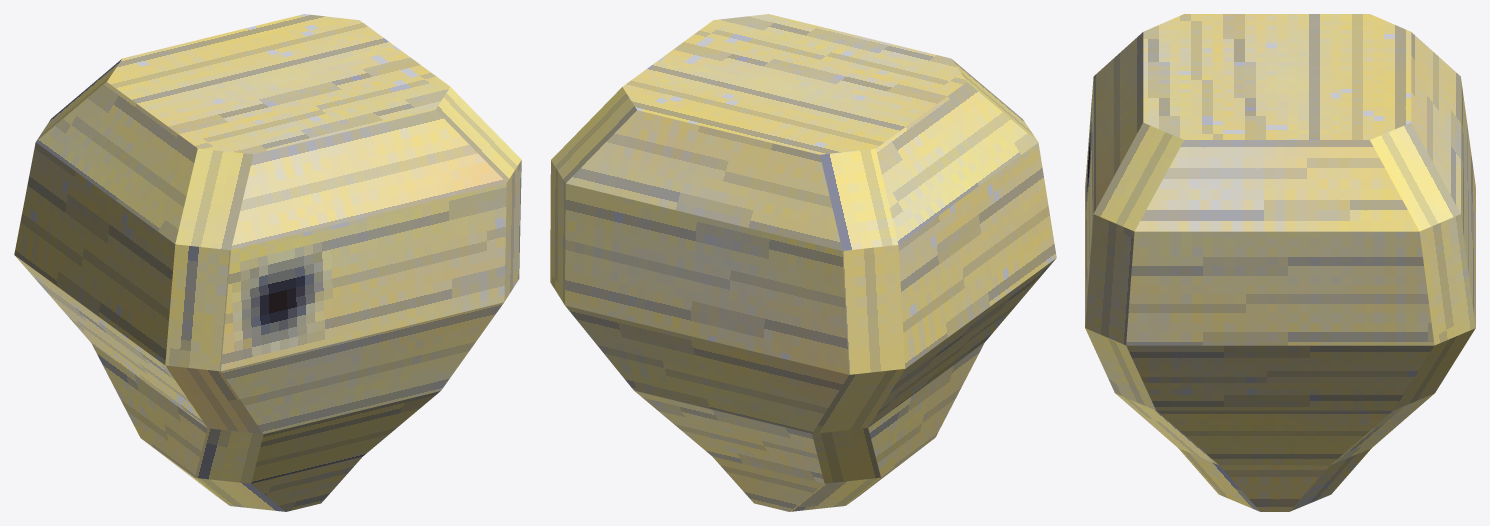
The model's file is hive.glb.
3 renders of one model, left to right at view 1: azimuth 30°, elevation 25°; view 2: azimuth 150°, elevation 25°; view 3: azimuth 270°, elevation 25°, orthographic. The views are drawn at different scales.
Parts seen in each view (by area): view 1: Cube; view 2: Cube; view 3: Cube.
Boxes of the visible parts, box(x1,y1,x2,y2) form: Cube: box(14, 14, 521, 511); Cube: box(550, 14, 1056, 511); Cube: box(1085, 14, 1475, 511).
Size of the model in its own units: 0.9619 by 1.02 by 0.8829.
Materials: 1 (1 with a texture image).
